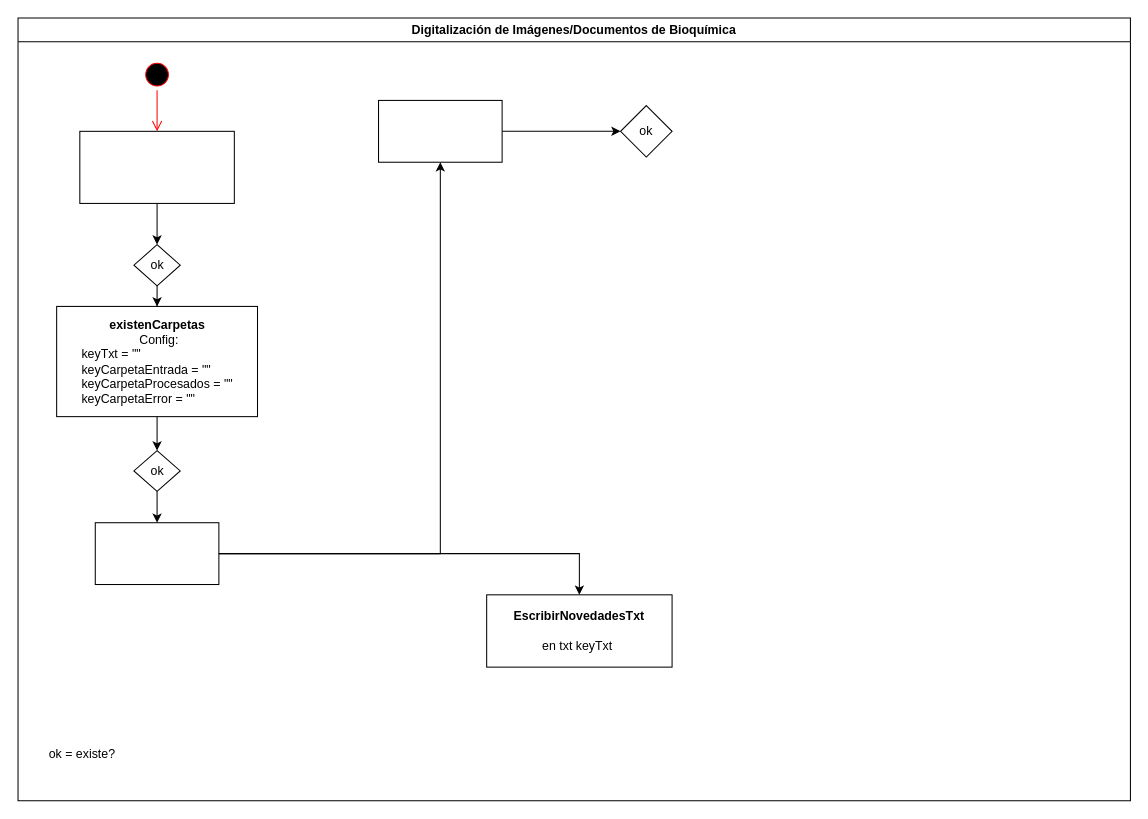
Image size: 1148x819. Some labels were removed from this diagram. The centre of each missing label's shape, as x and y in pixels:
conectarBaseDatos Config: keyDestino = "": point 156,166
existeArchivo ref a keyTxt: point 156,553
leerCarpetas keyCarpetaEntrada: point 439,130
